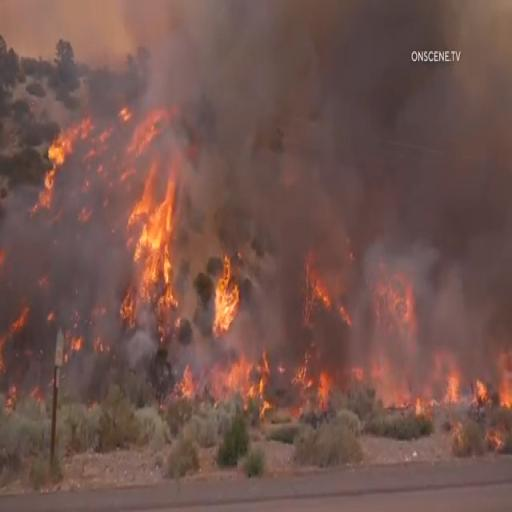fire: (116, 102, 238, 350), (362, 202, 438, 405), (74, 75, 193, 202), (282, 234, 352, 436), (44, 109, 117, 235), (187, 350, 274, 430)
smoke: (246, 8, 392, 119), (382, 78, 508, 200), (443, 280, 512, 364)
